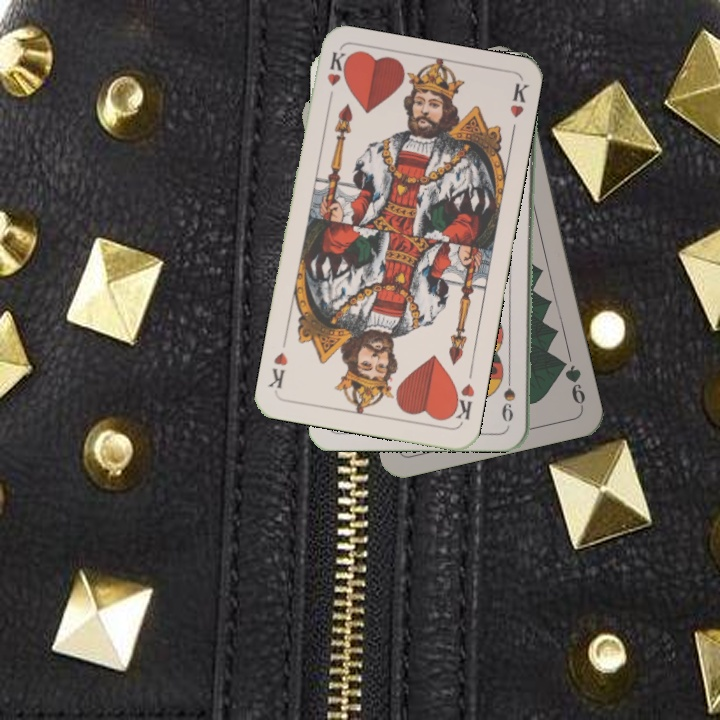G9: (555, 354, 588, 410)
HK: (323, 48, 349, 108), (446, 380, 477, 423)
S9: (501, 366, 517, 423)
